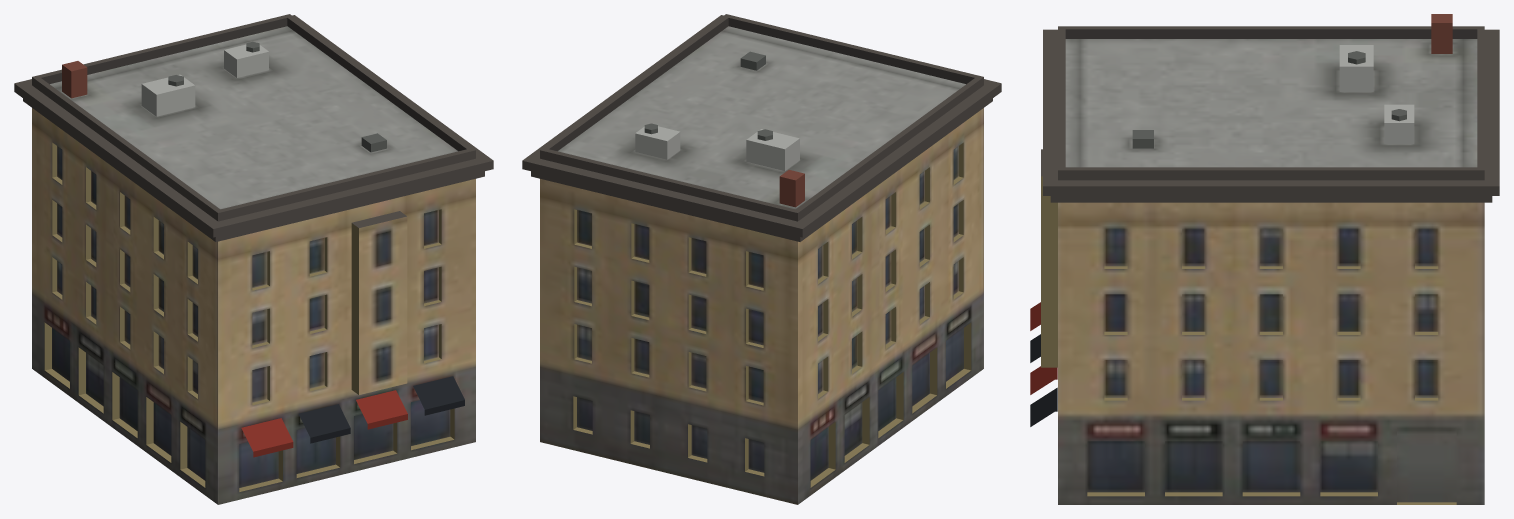
Rendered from dc_brick_corner_b.glb.
3 views of the same model, side by side, from view 1: azimuth 30°, elevation 25°; view 2: azimuth 150°, elevation 25°; view 3: azimuth 270°, elevation 25° (orthographic). The views are drawn at different scales.
Parts seen in each view (by area): view 1: dc_brick_corner_b; view 2: dc_brick_corner_b; view 3: dc_brick_corner_b.
Boxes of the visible parts, <box> form: dc_brick_corner_b: <box>14,14,493,504</box>; dc_brick_corner_b: <box>522,14,1001,504</box>; dc_brick_corner_b: <box>1030,14,1499,504</box>.
Bounding box in the file's own units: 17.4 × 18.4 × 22.
Materials: 1 (1 with a texture image).
